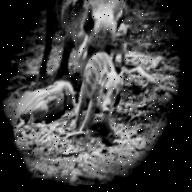boar: (41, 0, 129, 88), (66, 46, 136, 147), (12, 72, 81, 132)
